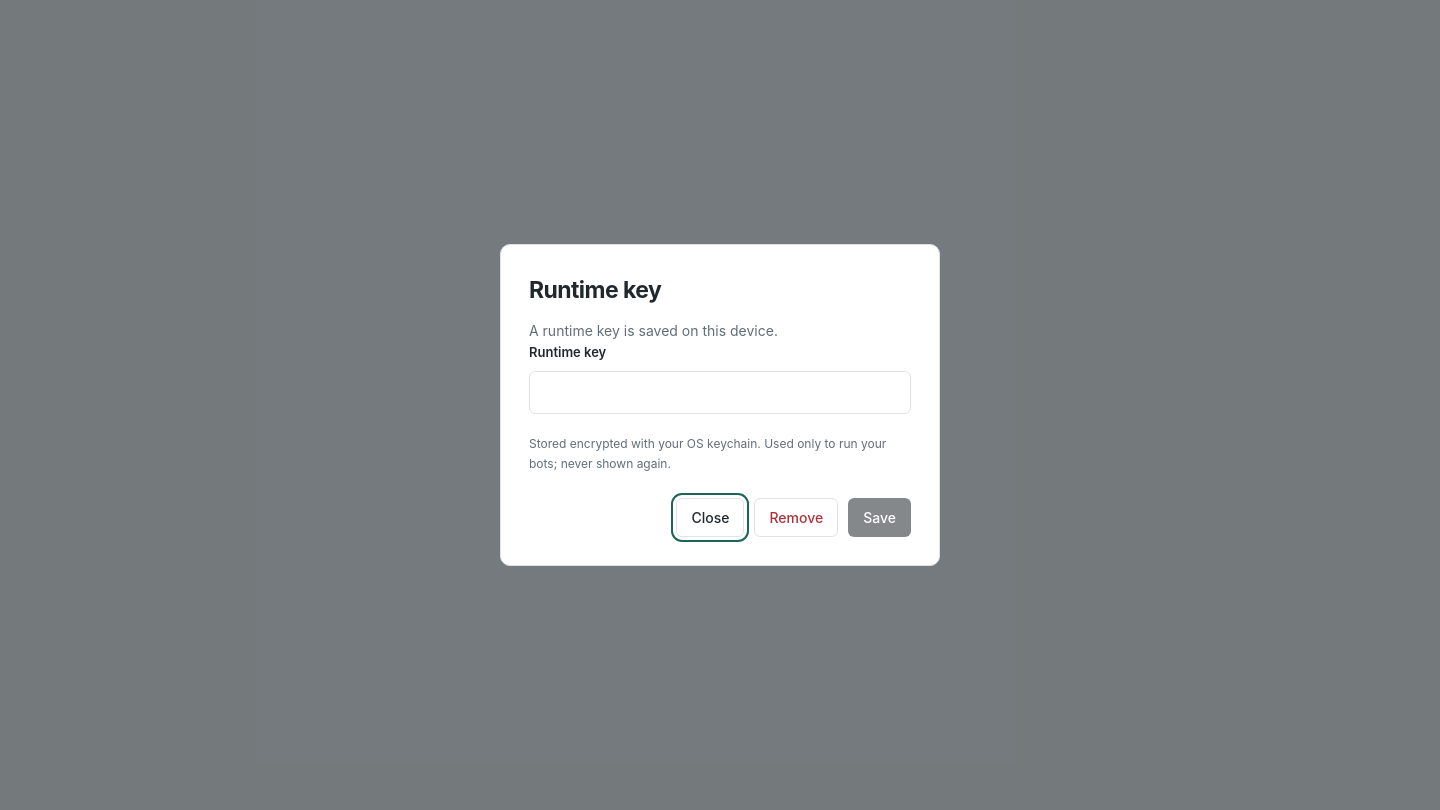
Test: runtime key dialog › removes the saved key
Click the button "Remove".
click(796, 518)  # box left=754, top=498, right=838, bottom=537
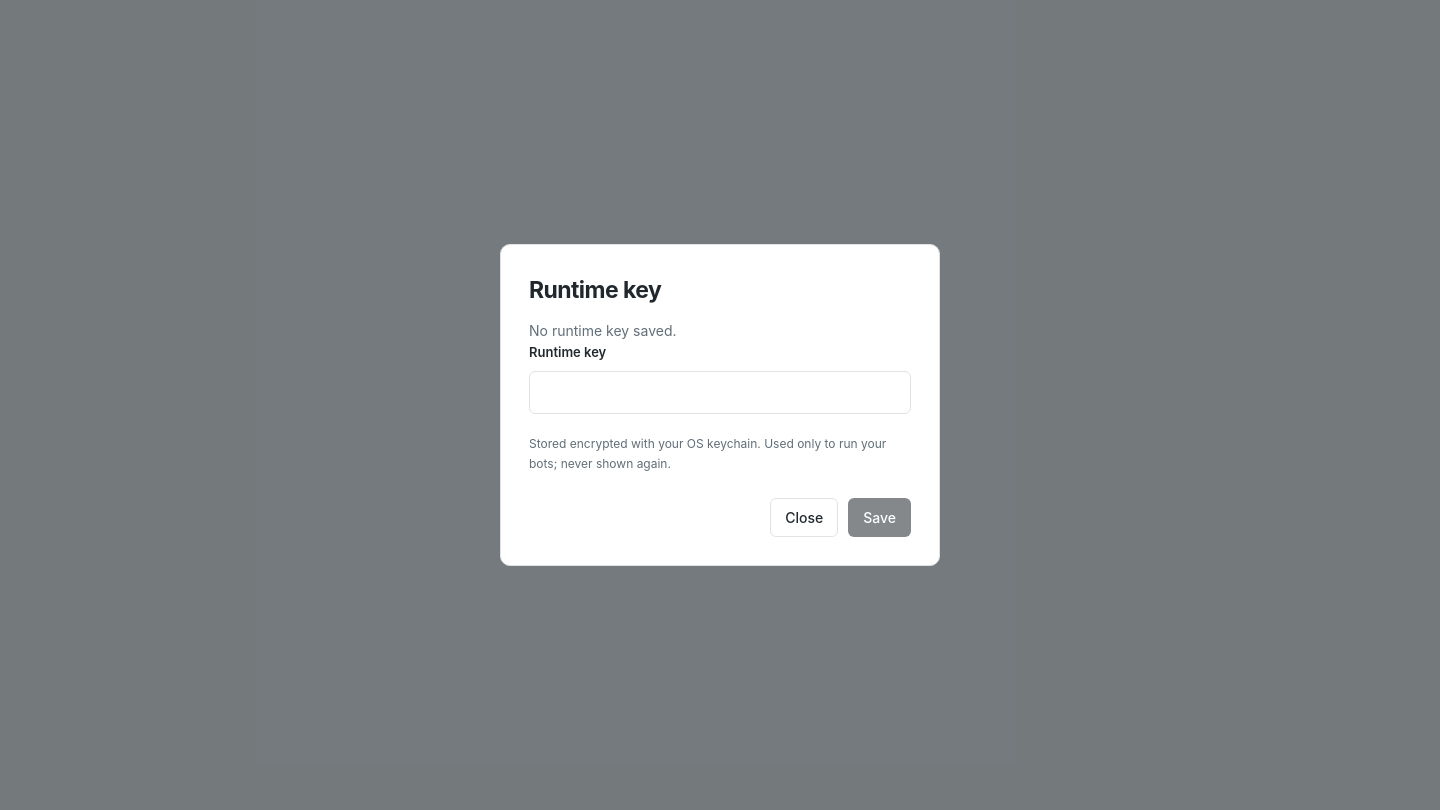
Check: the message reads "No runtime key saved.", box left=529, top=322, right=676, bottom=339
